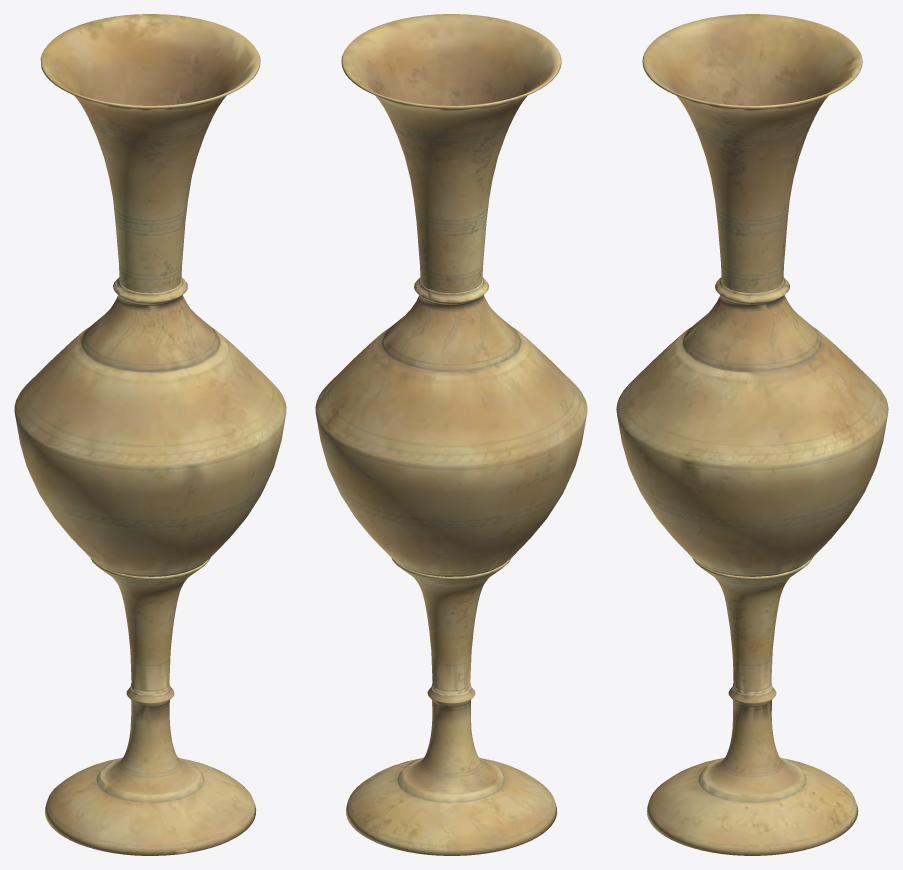
The model's file is brass_vase_01.glb.
The picture shows the model from 3 angles, left to right: view 1: azimuth 30°, elevation 25°; view 2: azimuth 150°, elevation 25°; view 3: azimuth 270°, elevation 25°; orthographic projection.
Parts seen in each view (by area): view 1: brass_vase_01; view 2: brass_vase_01; view 3: brass_vase_01.
Boxes of the visible parts, x1,y1,x2,y2 form: brass_vase_01: (14, 14, 286, 855); brass_vase_01: (315, 14, 587, 855); brass_vase_01: (616, 14, 888, 855).
Bounding box in the file's own units: 0.2272 × 0.6925 × 0.2272.
Materials: 1 (1 with a texture image).
